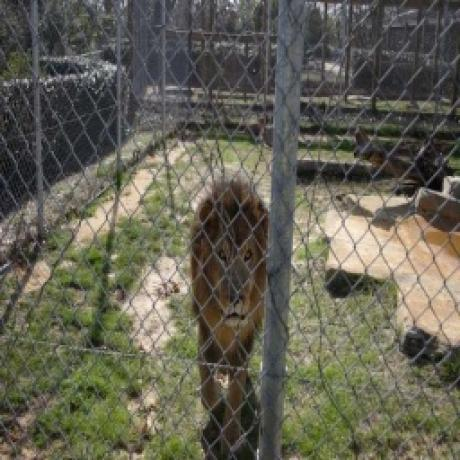Lion: (190, 176, 268, 447)
